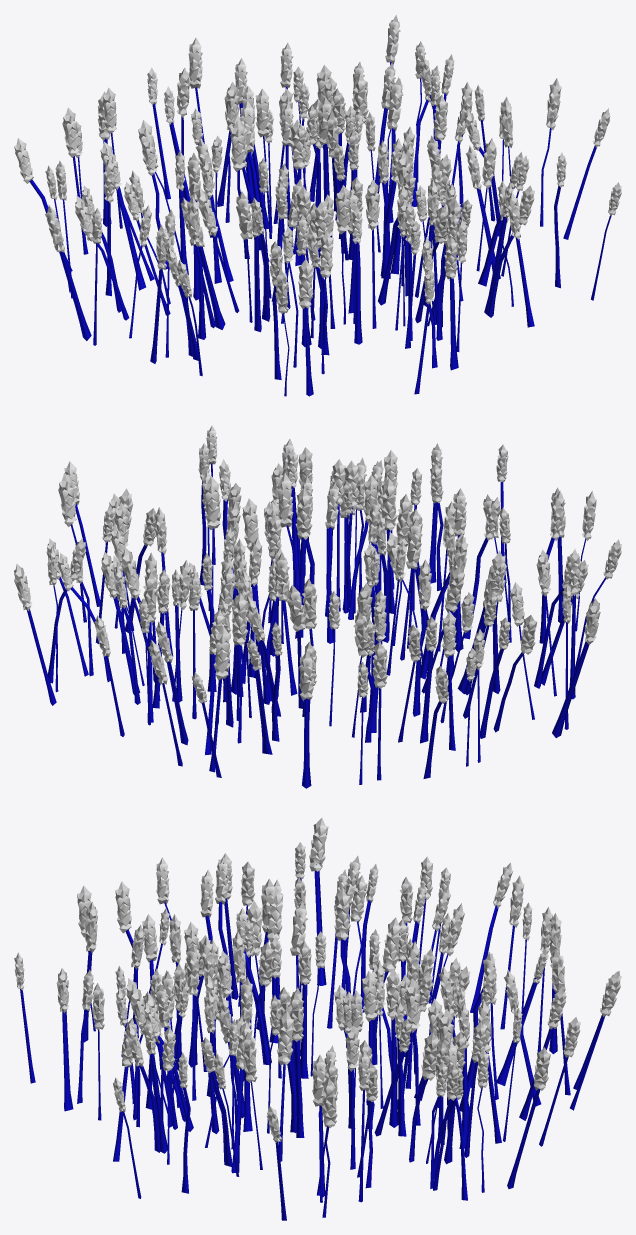
Rendered from PatchWheat03.fbx.
The picture shows the model from 3 angles, top to bottom: view 1: azimuth 30°, elevation 25°; view 2: azimuth 150°, elevation 25°; view 3: azimuth 270°, elevation 25°; orthographic projection. The views are drawn at different scales.
Visible parts, largest first — view 1: PatchWheat03_LOD0; view 2: PatchWheat03_LOD0; view 3: PatchWheat03_LOD0.
Part boxes in pixels (bbox=[...]): PatchWheat03_LOD0: bbox=[14, 15, 621, 396]; PatchWheat03_LOD0: bbox=[14, 425, 621, 788]; PatchWheat03_LOD0: bbox=[14, 817, 621, 1220].
Size of what is drawn, in the model's own units: 509 by 136 by 475.
